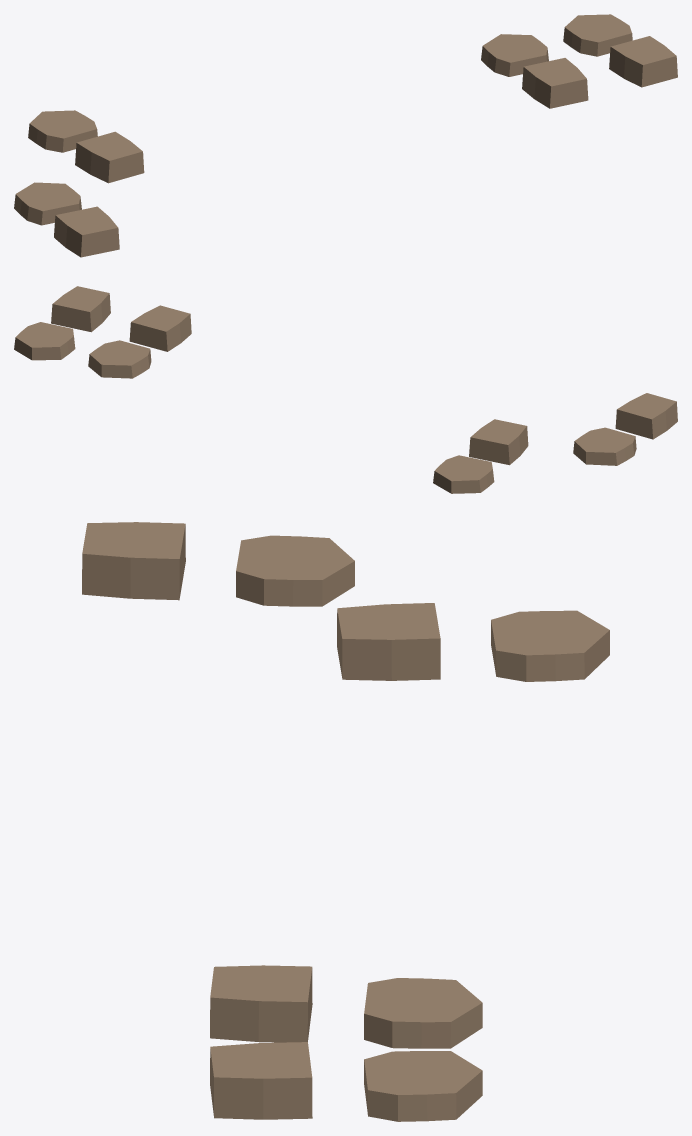
Rendered from footprint3wd.fbx.
The picture shows the model from 3 angles, top to bottom: view 1: azimuth 30°, elevation 25°; view 2: azimuth 150°, elevation 25°; view 3: azimuth 270°, elevation 25°; orthographic projection. The views are drawn at different scales.
Parts seen in each view (by area): view 1: Footprint_3D_Pair_Parallel, Footprint_3D_Pair_Stride; view 2: Footprint_3D_Pair_Parallel, Footprint_3D_Pair_Stride; view 3: Footprint_3D_Pair_Stride, Footprint_3D_Pair_Parallel.
Part boxes in pixels (x1,y1,x2,y2): Footprint_3D_Pair_Parallel: (481,14,677,108); Footprint_3D_Pair_Stride: (14,110,144,257); Footprint_3D_Pair_Parallel: (14,286,191,378); Footprint_3D_Pair_Stride: (433,393,677,493); Footprint_3D_Pair_Stride: (82,522,609,681); Footprint_3D_Pair_Parallel: (210,965,482,1121).
Size of the model in its own units: 167 by 5.5 by 66.26.
